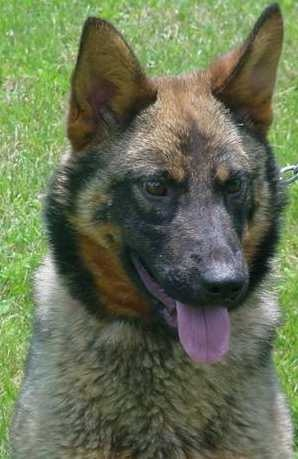dog: (37, 0, 298, 450)
